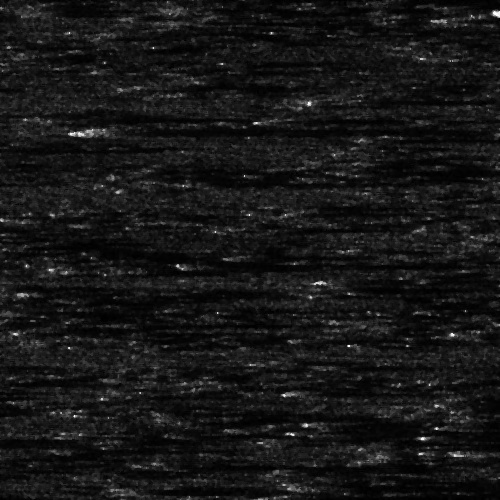object: (0, 297, 126, 324), (454, 475, 500, 490), (278, 482, 341, 491), (110, 480, 141, 497), (256, 115, 309, 124), (116, 82, 199, 87), (262, 494, 325, 500), (170, 260, 211, 269), (419, 422, 492, 427), (485, 3, 500, 22), (28, 117, 81, 122), (229, 251, 282, 256), (413, 432, 466, 437), (110, 321, 163, 326)
shadow: (27, 297, 219, 324), (191, 260, 430, 269), (310, 482, 481, 491), (283, 115, 425, 124), (294, 494, 463, 500), (99, 128, 409, 131), (126, 480, 179, 497), (137, 321, 290, 326), (158, 82, 295, 87), (54, 117, 187, 122), (0, 144, 129, 149), (256, 251, 352, 256), (439, 432, 500, 437), (455, 422, 500, 427), (158, 462, 213, 465), (0, 178, 14, 185), (0, 85, 9, 90)
